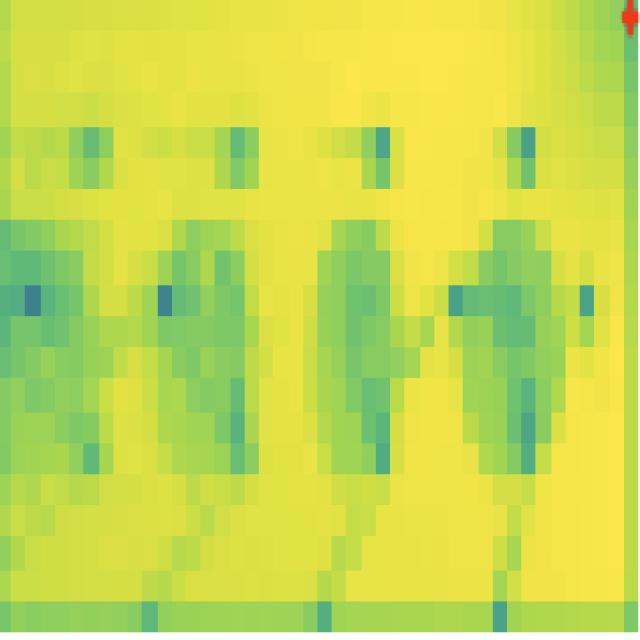Concrete: (310, 213, 404, 478)
Glass: (158, 217, 265, 451)
Metal: (458, 218, 564, 484)
Wood: (17, 221, 116, 445)
